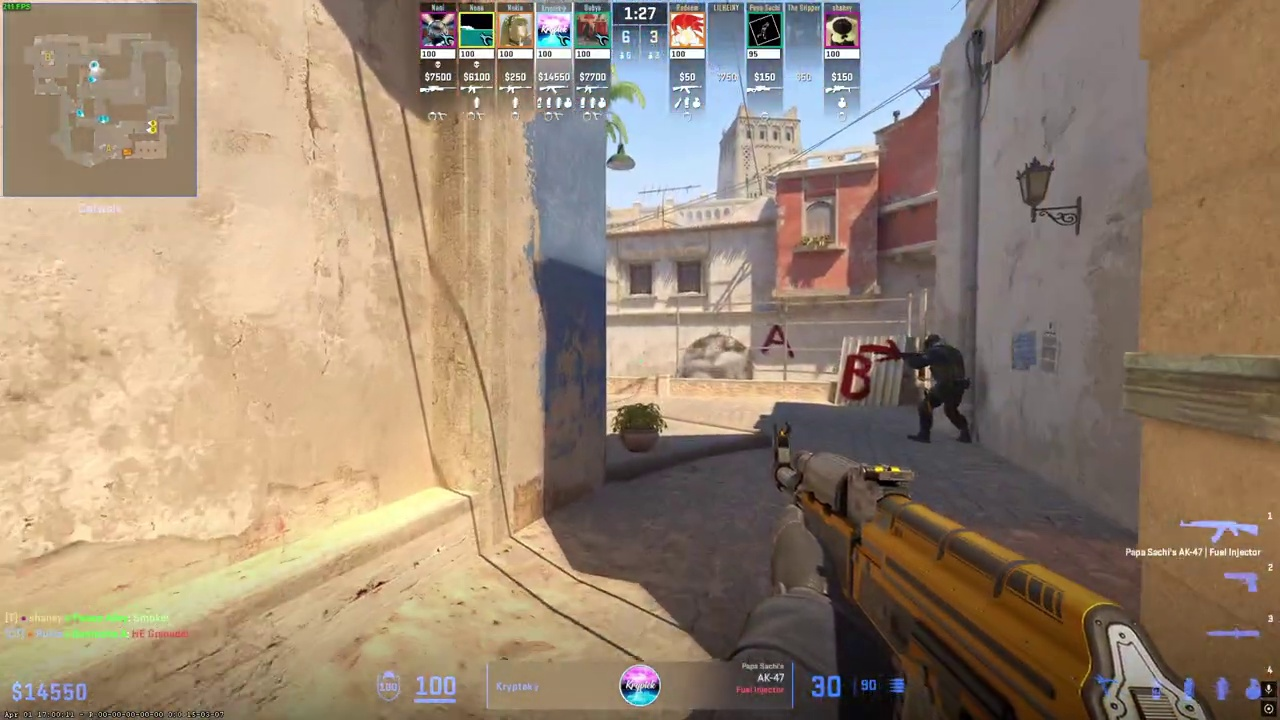CT: (907, 334, 972, 444)
